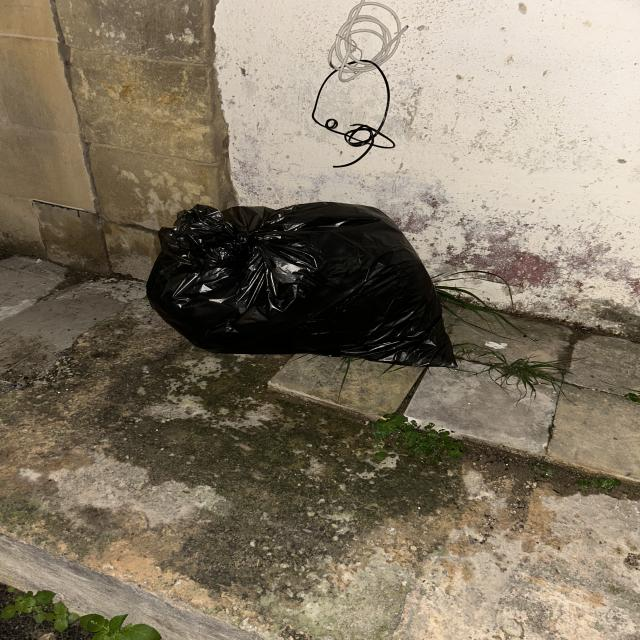Mixed Waste -Black Bag-: (145, 201, 456, 371)
